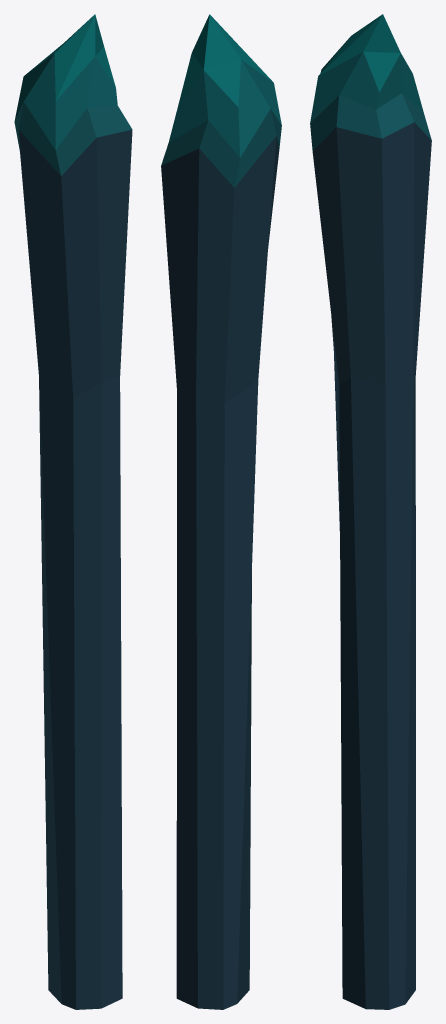
The model's file is Rock_1.fbx.
3 views of the same model, side by side, from view 1: azimuth 30°, elevation 25°; view 2: azimuth 150°, elevation 25°; view 3: azimuth 330°, elevation 25° (orthographic).
Parts seen in each view (by area): view 1: Rock_1; view 2: Rock_1; view 3: Rock_1.
Part boxes in pixels (x1=…): Rock_1: x1=14, y1=14, x2=132, y2=1009; Rock_1: x1=161, y1=14, x2=281, y2=1009; Rock_1: x1=310, y1=14, x2=431, y2=1009.
Size of the model in its own units: 9.68 by 92.34 by 9.67.
